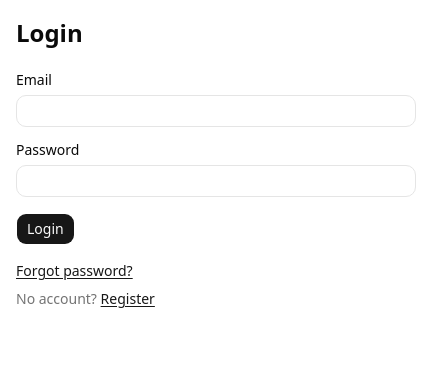
it: Login › shows error on login failure
Expected: the heading "Login" is shown, [16, 16, 83, 49]
Step 1. Type "a@b.com" into the field with id "email" → (216, 111), box [16, 95, 416, 127]
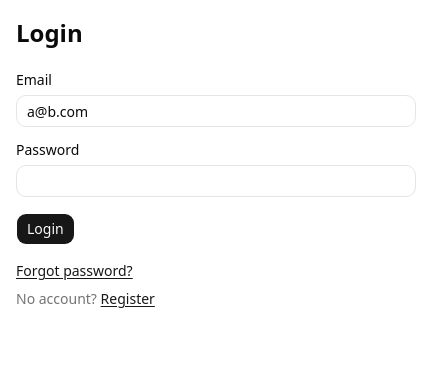
Step 2. Type "wrong" into the password field labelled "Password" → (216, 181), box [16, 165, 416, 197]
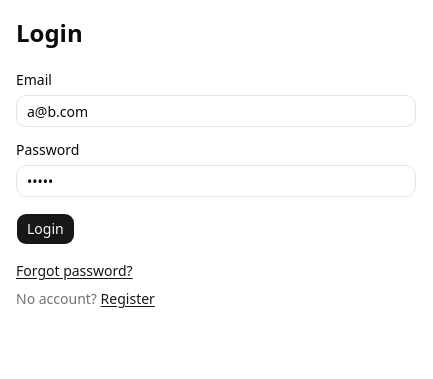
Step 3. Click the button "Login" → (45, 229), box [16, 213, 75, 245]
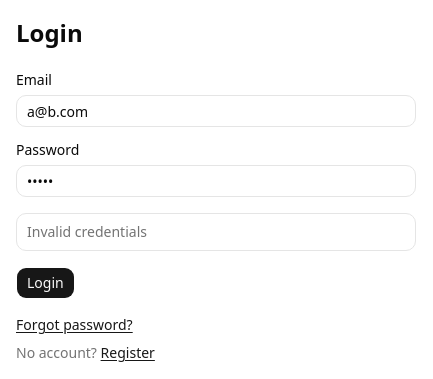
Now the message reads "Invalid credentials", box [27, 222, 147, 241]
